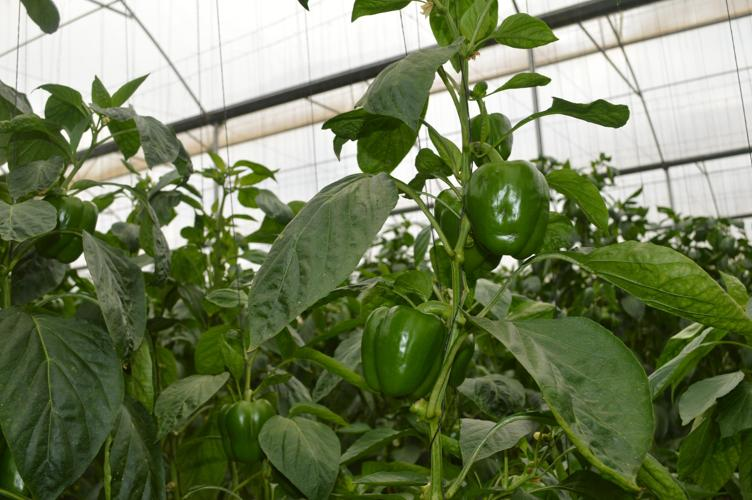BellPepper: (458, 158, 566, 267), (354, 289, 442, 406), (28, 191, 105, 272), (201, 396, 282, 466)
